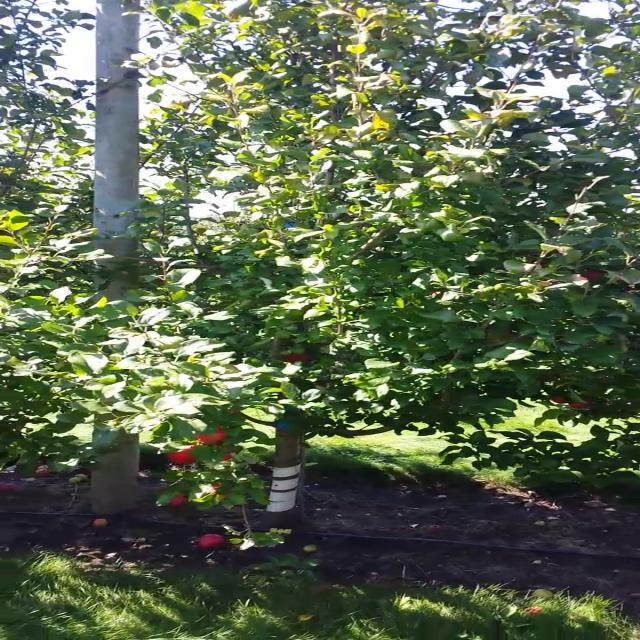apple: (194, 426, 226, 444), (167, 447, 196, 463), (210, 482, 230, 498), (282, 353, 308, 363), (583, 270, 605, 280), (570, 399, 591, 409), (550, 393, 568, 404), (169, 494, 184, 506), (431, 290, 441, 296), (223, 454, 232, 460)
